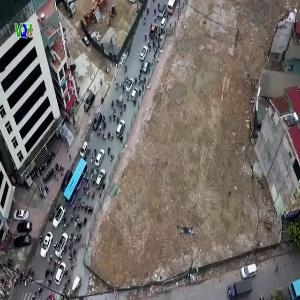drone: (168, 212, 207, 251)
